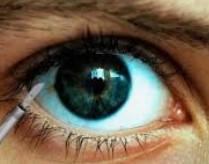eye: (55, 51, 132, 121)
